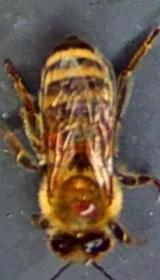varroa_mite: (64, 197, 105, 224)
